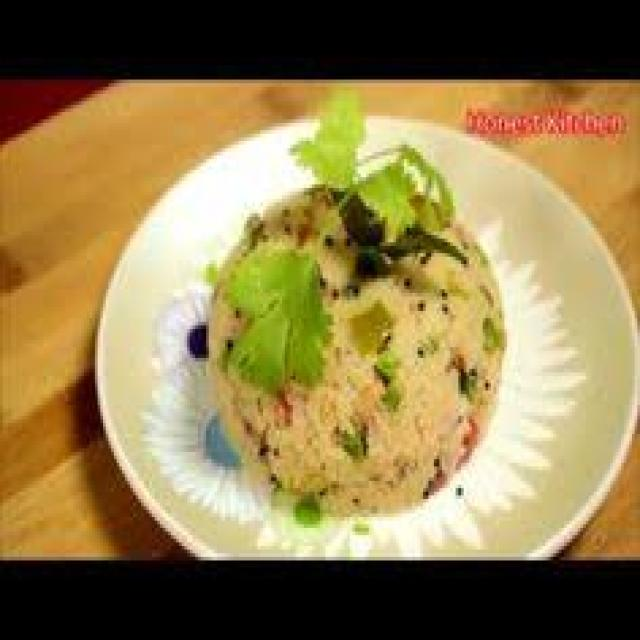UPMA: (203, 134, 502, 503)
